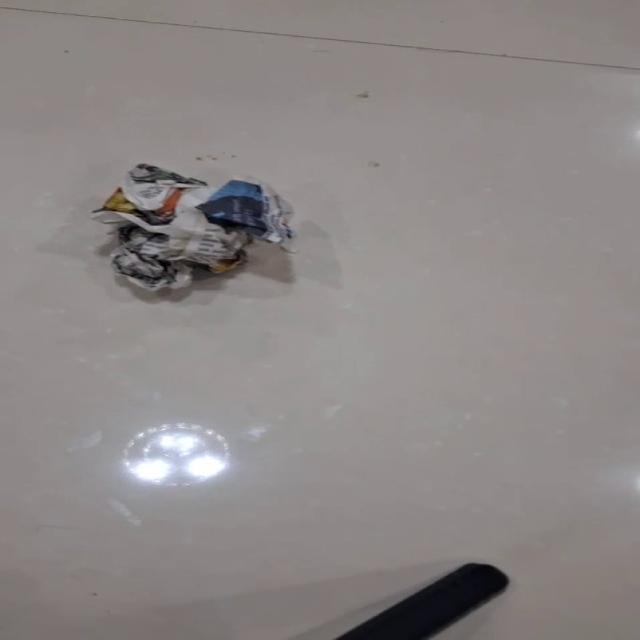paper: (89, 162, 298, 291)
